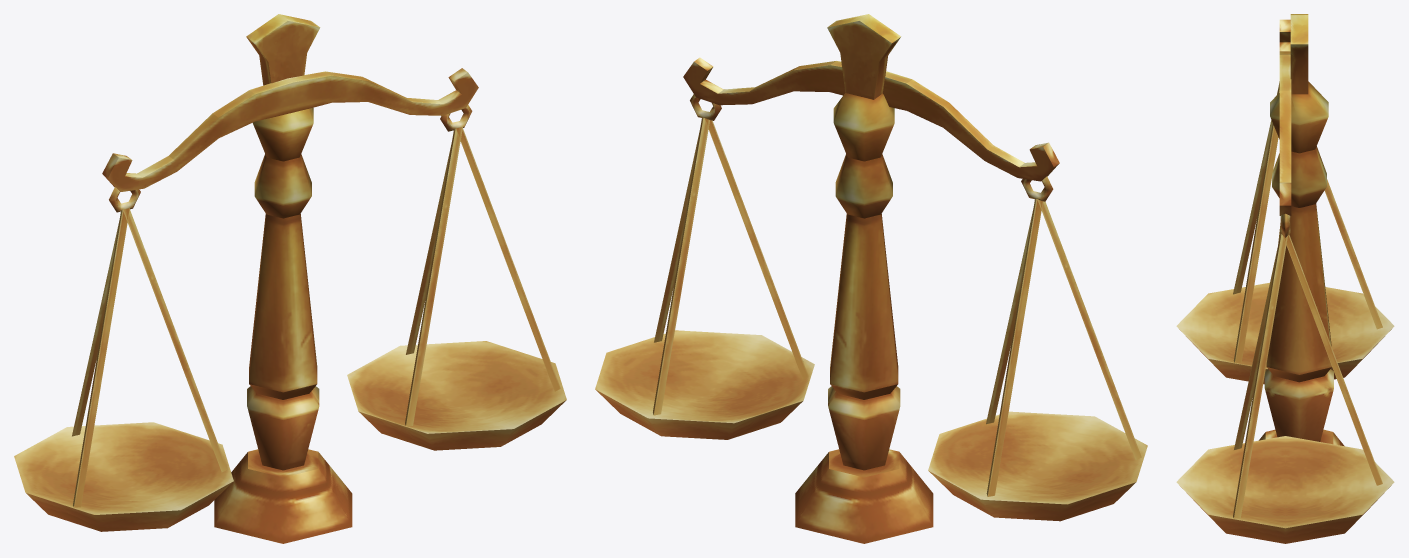
The model's file is Scale_01.FBX.
3 renders of one model, left to right at view 1: azimuth 30°, elevation 25°; view 2: azimuth 150°, elevation 25°; view 3: azimuth 270°, elevation 25°, orthographic. The views are drawn at different scales.
Visible parts, largest first — view 1: Scale_01; view 2: Scale_01; view 3: Scale_01.
Boxes of the visible parts, x1,y1,x2,y2 form: Scale_01: (14,14,566,543); Scale_01: (595,14,1147,543); Scale_01: (1176,14,1394,543).
Size of the model in its own units: 61.28 by 22.79 by 54.45.
